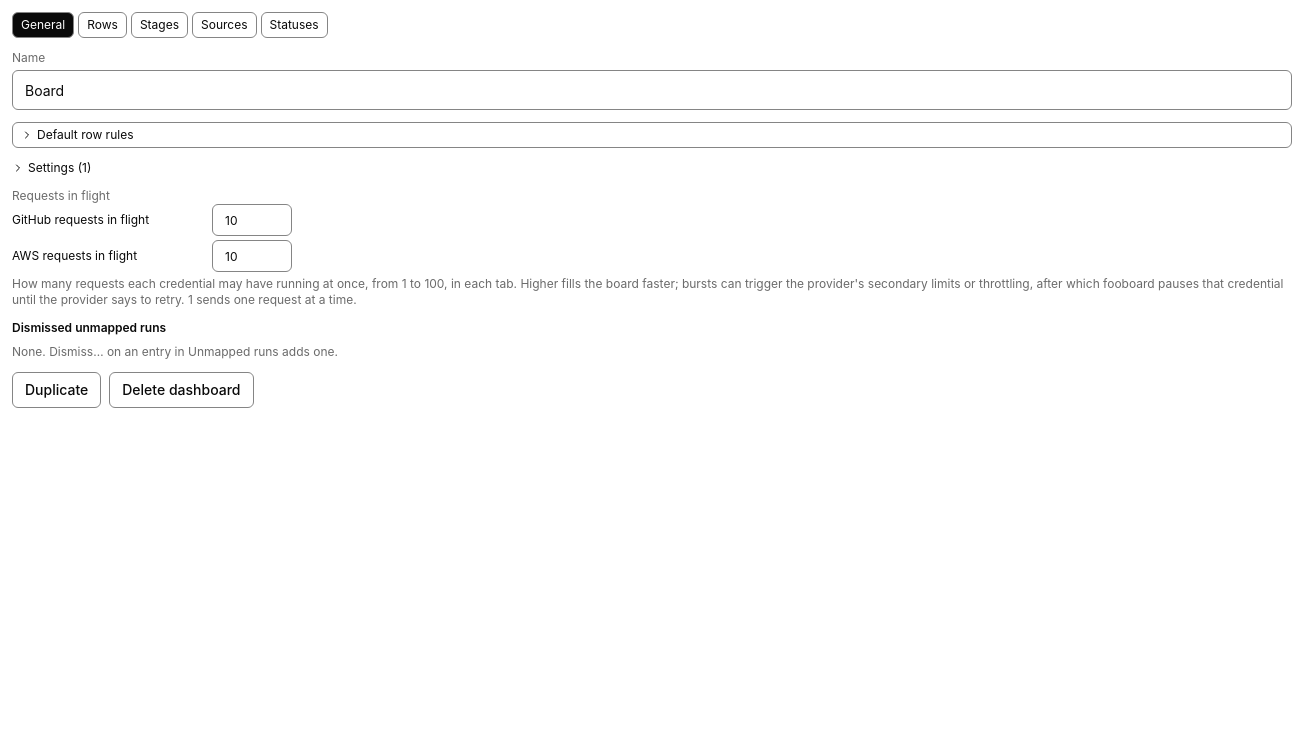
Scenario: row groups in the editor › keeps a row's overrides collapsed, counting them, until opened
The image size is (1304, 732).
Press the mouse on the tab "Rows" at (103, 25), box [78, 12, 127, 38]
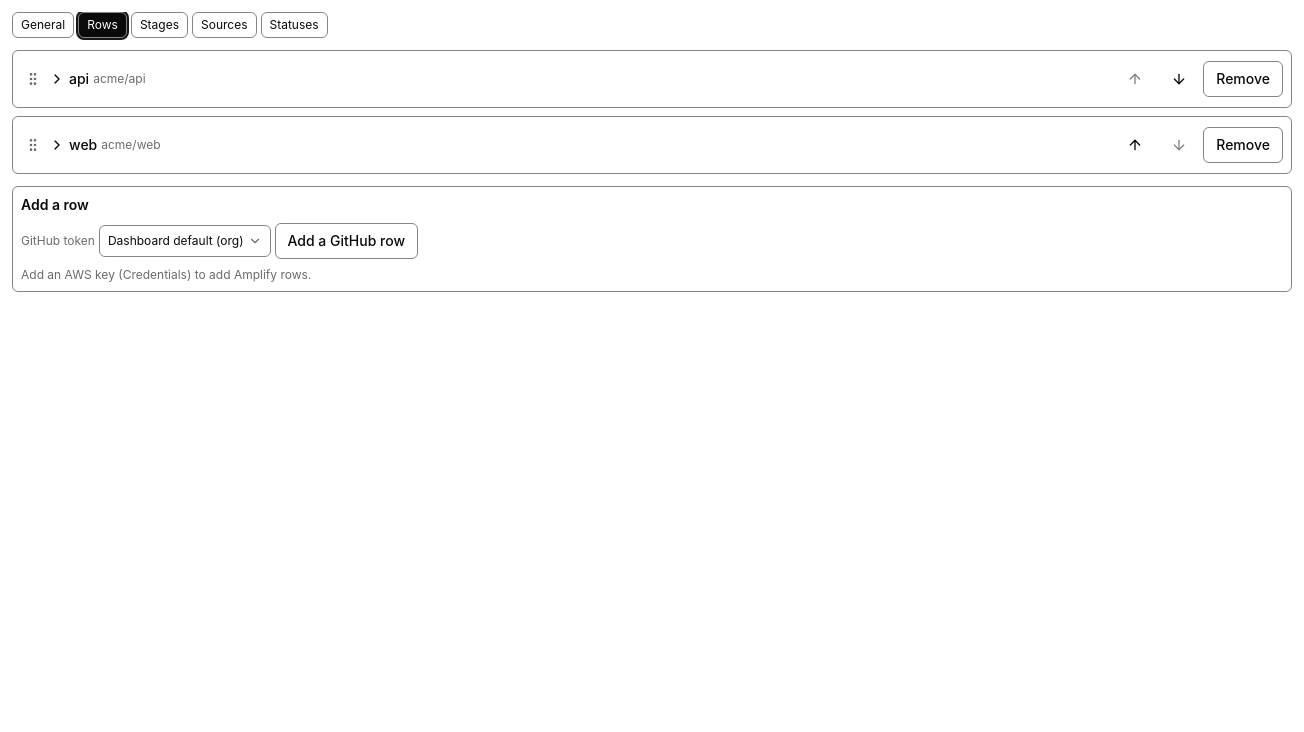
Click the button "api acme/api" at (119, 78), box [49, 69, 1111, 89]
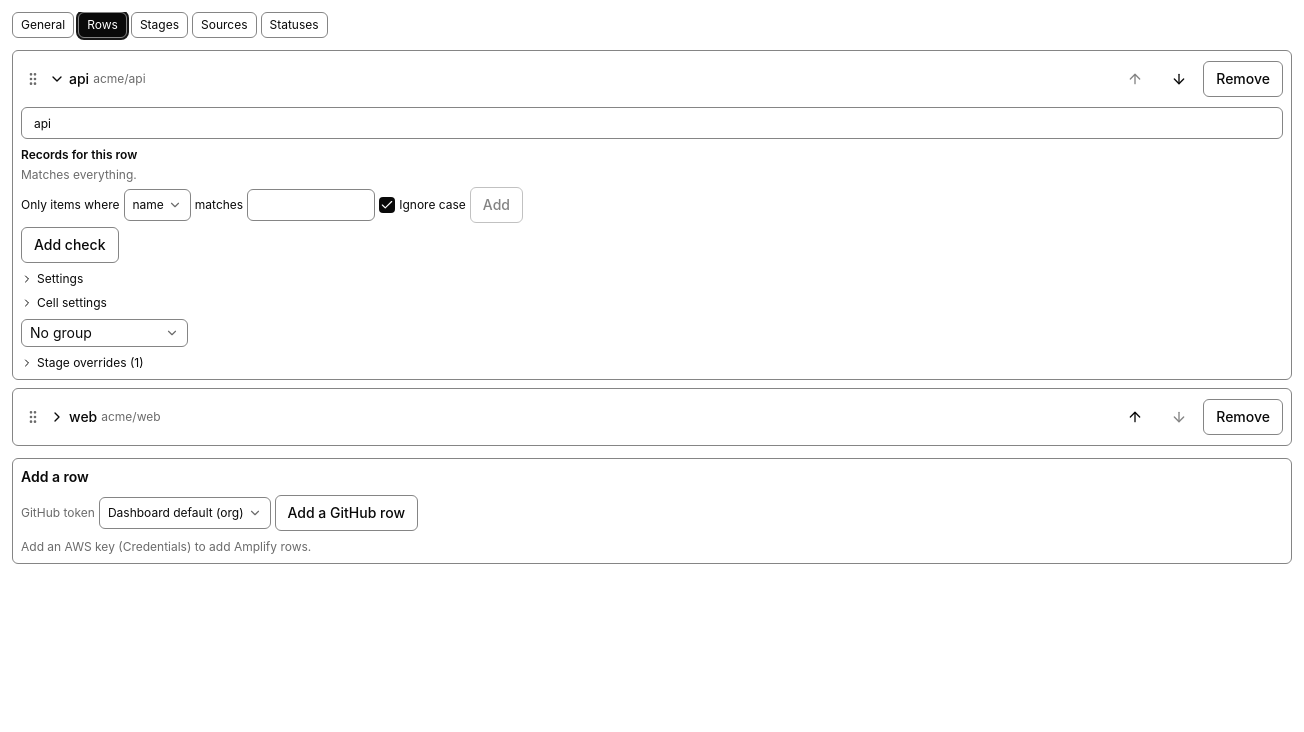
Click the button "Stage overrides (1)" at (82, 363), box [21, 355, 144, 371]
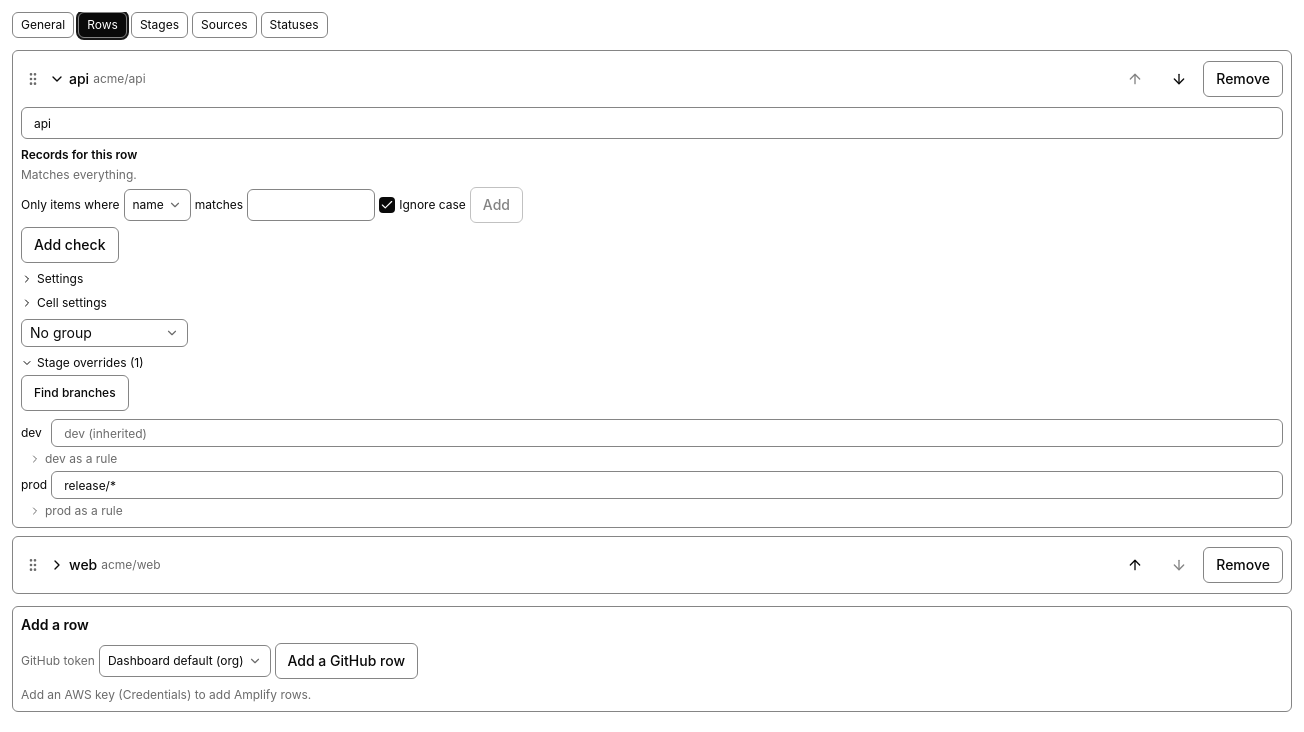
Now the field named "prod branch override for api" holds "release/*", box [51, 471, 1283, 499]
